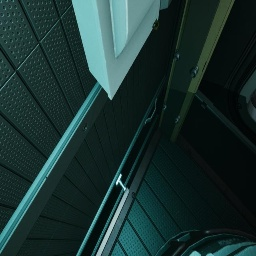SafetySwitchPanel ,: (72, 0, 160, 100)
